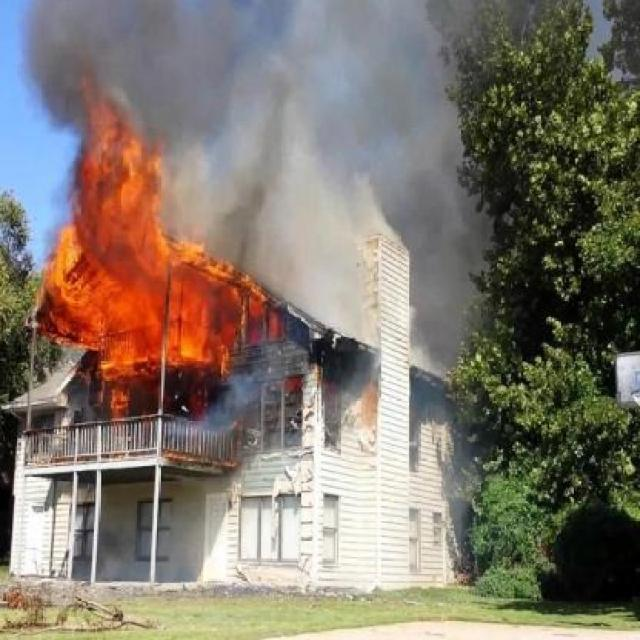Fire: (8, 146, 266, 422)
Smoke: (205, 0, 502, 285)
